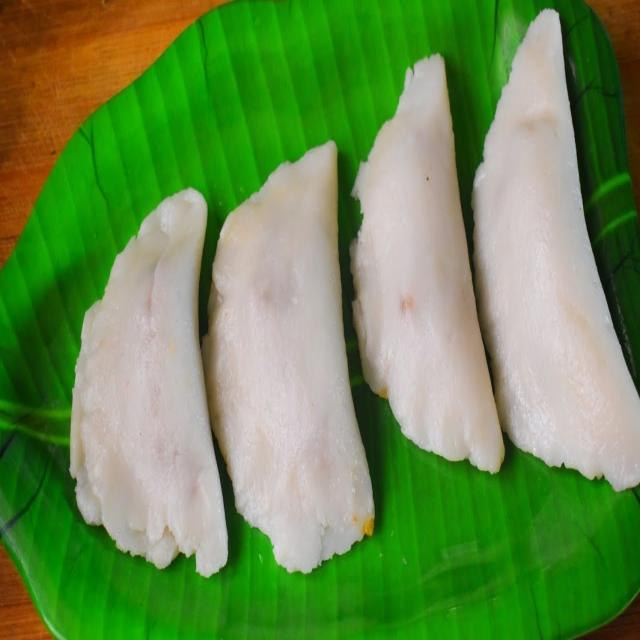poorna kolukattai: (60, 0, 636, 640)
